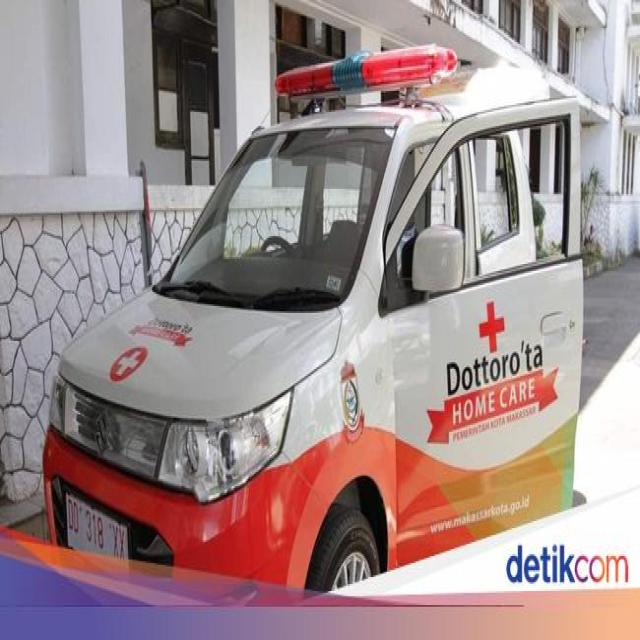ambulance: (41, 42, 584, 605)
